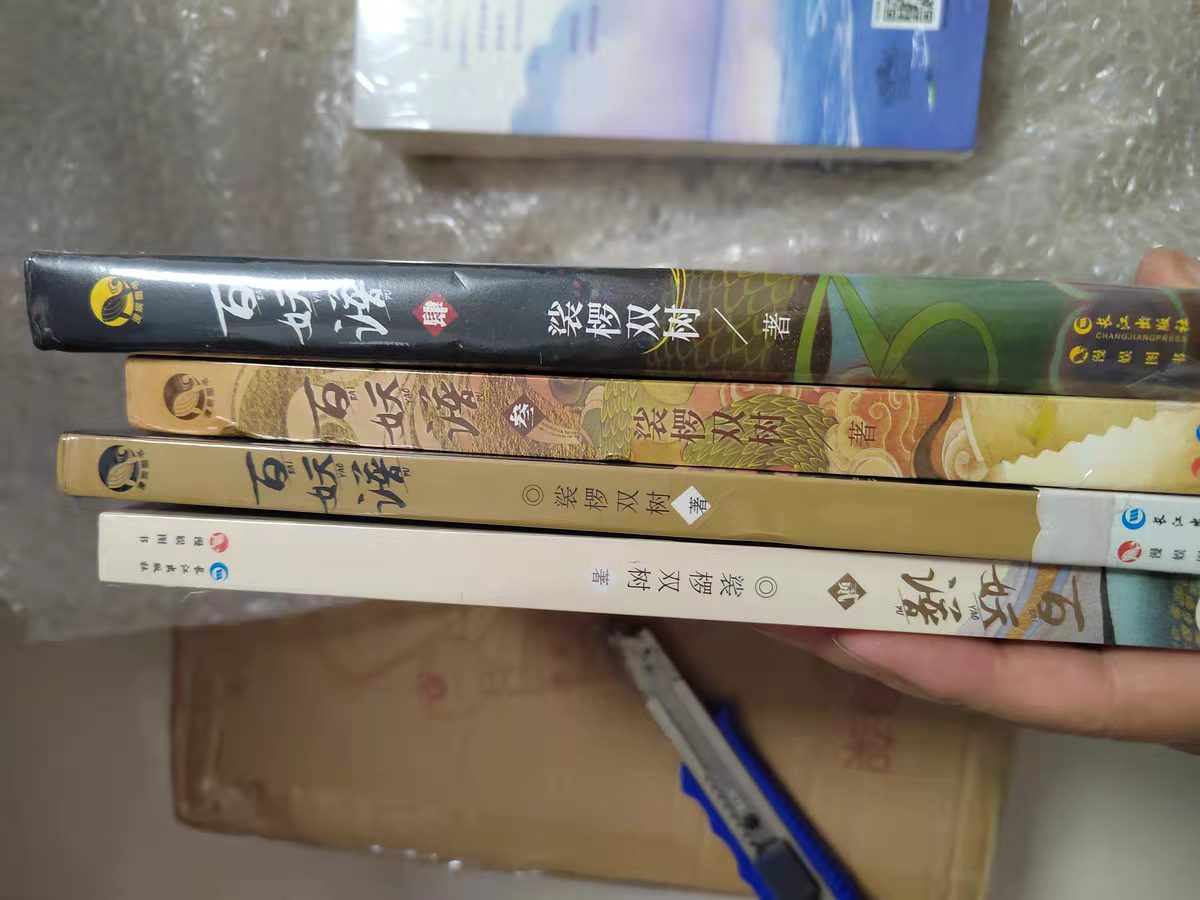book: (26, 247, 1200, 407), (55, 428, 1200, 578), (124, 353, 1200, 493), (101, 513, 1200, 643)
